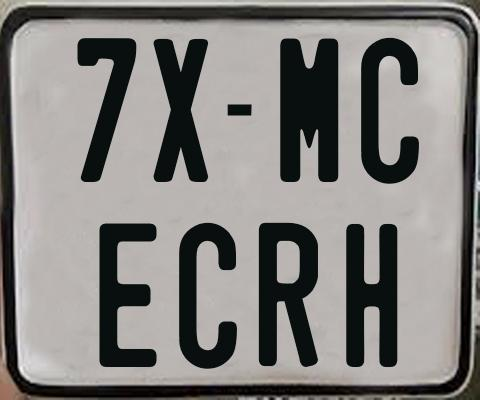7: (76, 37, 137, 181)
C: (178, 220, 242, 370), (361, 35, 421, 185)
E: (96, 221, 158, 370)
H: (346, 222, 400, 367)
M: (279, 37, 338, 181)
R: (257, 220, 317, 365)
X: (151, 38, 211, 182)
